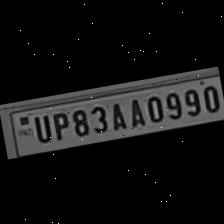0: (140, 90, 164, 124), (198, 80, 222, 114)
3: (85, 100, 108, 134)
8: (66, 103, 90, 137)
9: (160, 86, 183, 120), (179, 84, 201, 118)
A: (105, 96, 128, 132), (122, 93, 144, 128)
P: (46, 106, 70, 141)
U: (26, 110, 50, 144)
